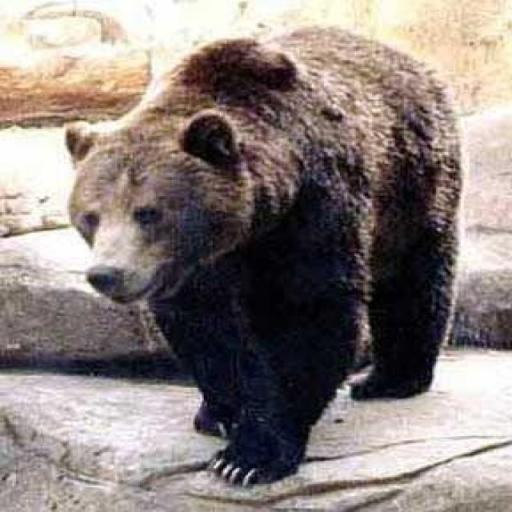Bear: (60, 22, 464, 487)
